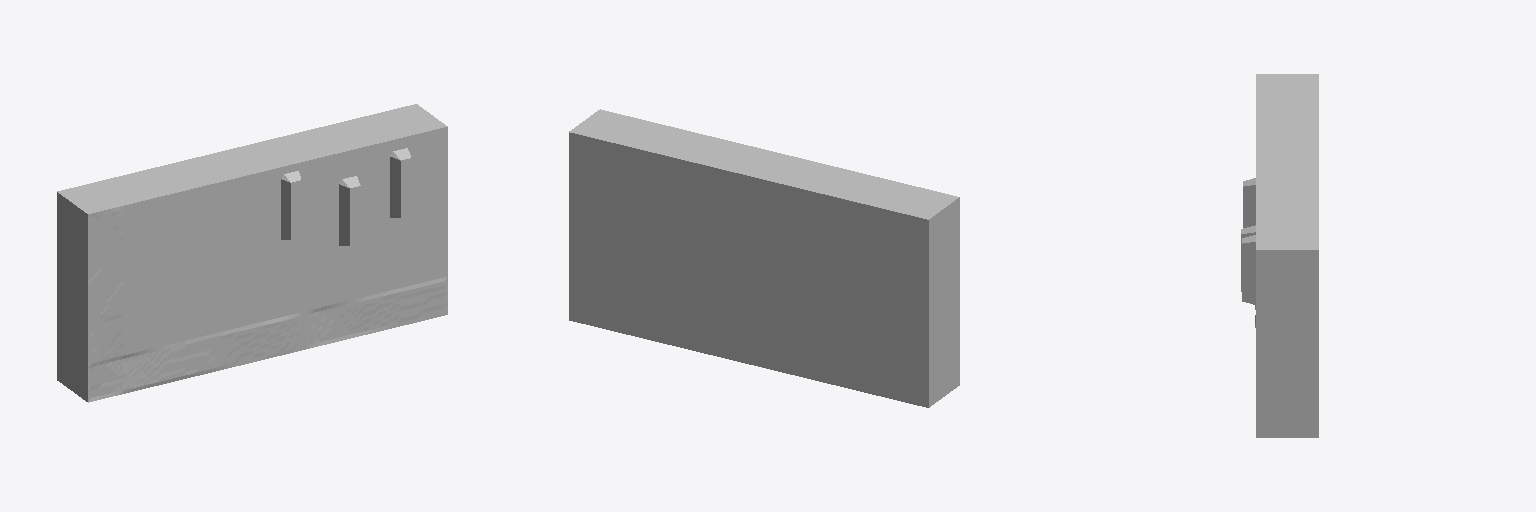
The model's file is rectangular_prism_bumps_9_3.obj.
The picture shows the model from 3 angles: view 1: azimuth 30°, elevation 25°; view 2: azimuth 150°, elevation 25°; view 3: azimuth 270°, elevation 25°; orthographic projection.
Bounding box in the file's own units: 10 × 5 × 1.86.